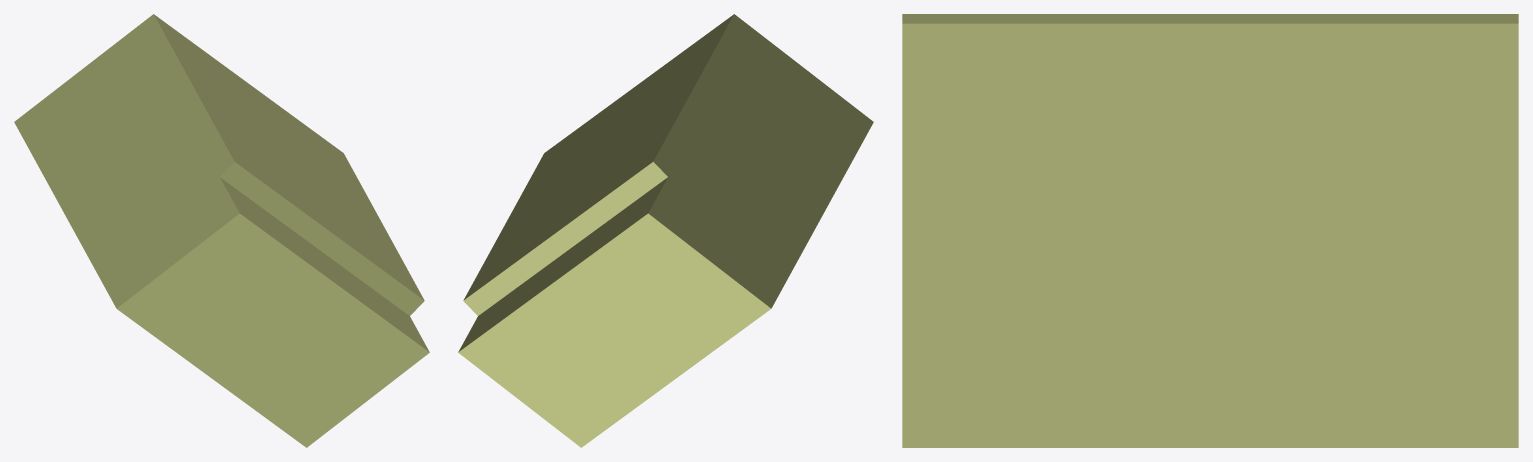
The picture shows the model from 3 angles, left to right: view 1: azimuth 30°, elevation 25°; view 2: azimuth 150°, elevation 25°; view 3: azimuth 270°, elevation 25°; orthographic projection. The views are drawn at different scales.
Parts seen in each view (by area): view 1: 0_1_1_3_2_2_3_0_1_1_1; view 2: 0_1_1_3_2_2_3_0_1_1_1; view 3: 0_1_1_3_2_2_3_0_1_1_1.
Boxes of the visible parts, left/top/right/bottom form: 0_1_1_3_2_2_3_0_1_1_1: left=14, top=14, right=429, bottom=447; 0_1_1_3_2_2_3_0_1_1_1: left=458, top=14, right=873, bottom=447; 0_1_1_3_2_2_3_0_1_1_1: left=902, top=14, right=1518, bottom=447.
Bounding box in the file's own units: 6.17 × 7.46 × 9.
